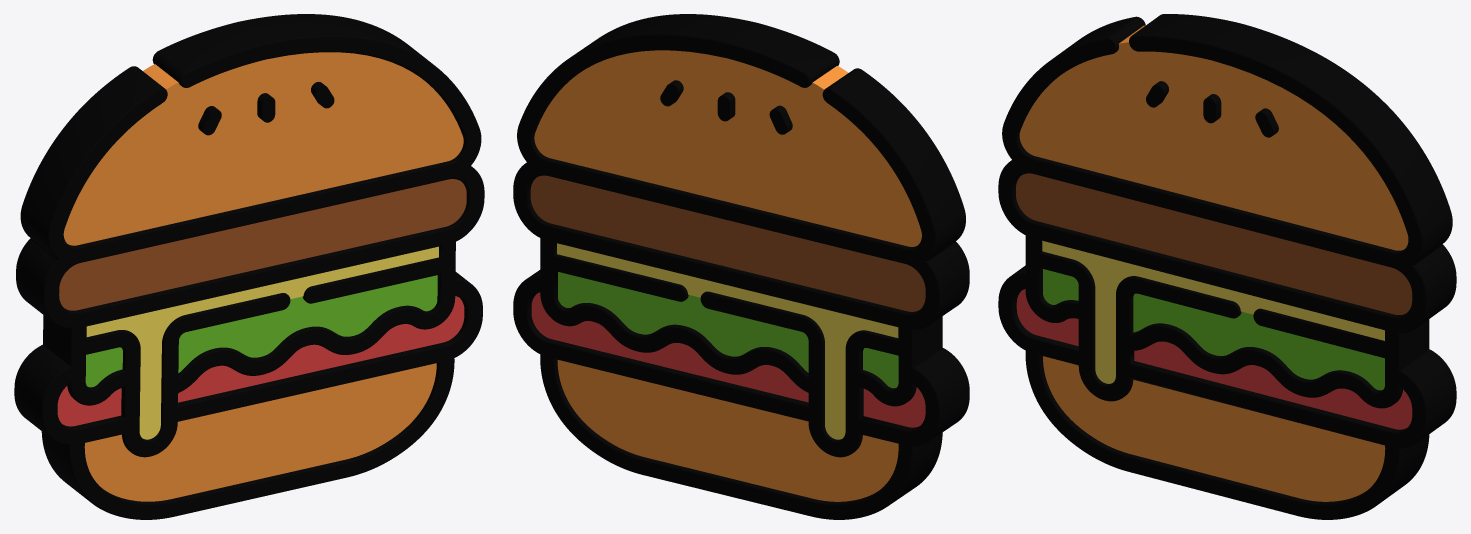
The model's file is hamburger2.glb.
The picture shows the model from 3 angles, left to right: view 1: azimuth 30°, elevation 25°; view 2: azimuth 150°, elevation 25°; view 3: azimuth 330°, elevation 25°; orthographic projection.
Parts seen in each view (by area): view 1: Curve.015, Curve.004, Curve.006, Curve.001, Curve.008, Curve.002, Curve.010; view 2: Curve.015, Curve.004, Curve.006, Curve.001, Curve.008, Curve.002, Curve.010; view 3: Curve.015, Curve.004, Curve.006, Curve.001, Curve.008, Curve.002, Curve.010.
Boxes of the visible parts, <box> form: Curve.015: <box>14,14,484,519</box>; Curve.004: <box>63,52,463,245</box>; Curve.006: <box>84,363,436,501</box>; Curve.001: <box>59,179,466,310</box>; Curve.008: <box>85,275,437,387</box>; Curve.002: <box>57,296,464,426</box>; Curve.010: <box>86,246,438,439</box>; Curve.015: <box>513,14,969,519</box>; Curve.004: <box>534,50,921,246</box>; Curve.006: <box>557,360,898,501</box>; Curve.001: <box>530,175,925,311</box>; Curve.008: <box>558,272,898,388</box>; Curve.002: <box>531,292,925,427</box>; Curve.010: <box>557,243,898,439</box>; Curve.015: <box>998,14,1456,519</box>; Curve.004: <box>1019,25,1408,250</box>; Curve.006: <box>1043,356,1385,501</box>; Curve.001: <box>1016,173,1412,314</box>; Curve.008: <box>1043,269,1384,390</box>; Curve.002: <box>1016,289,1412,429</box>; Curve.010: <box>1042,240,1384,383</box>.
Size of the model in its own units: 0.3977 by 0.3961 by 0.0579.
